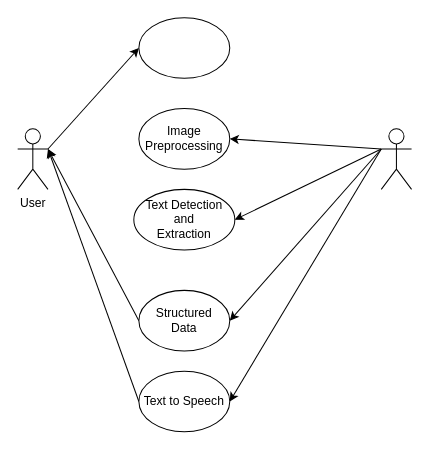
This 429x449 diagram has some shape labels left out. Here are the shapes that lost their labels. From the top down, the centre of each, then its label:
the point at 184,47: Input Image
the point at 396,158: API
